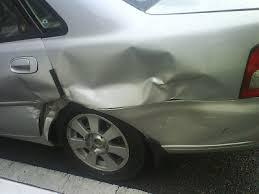doorouter-dent: (0, 44, 60, 135)
quaterpanel-dent: (78, 27, 243, 117)
